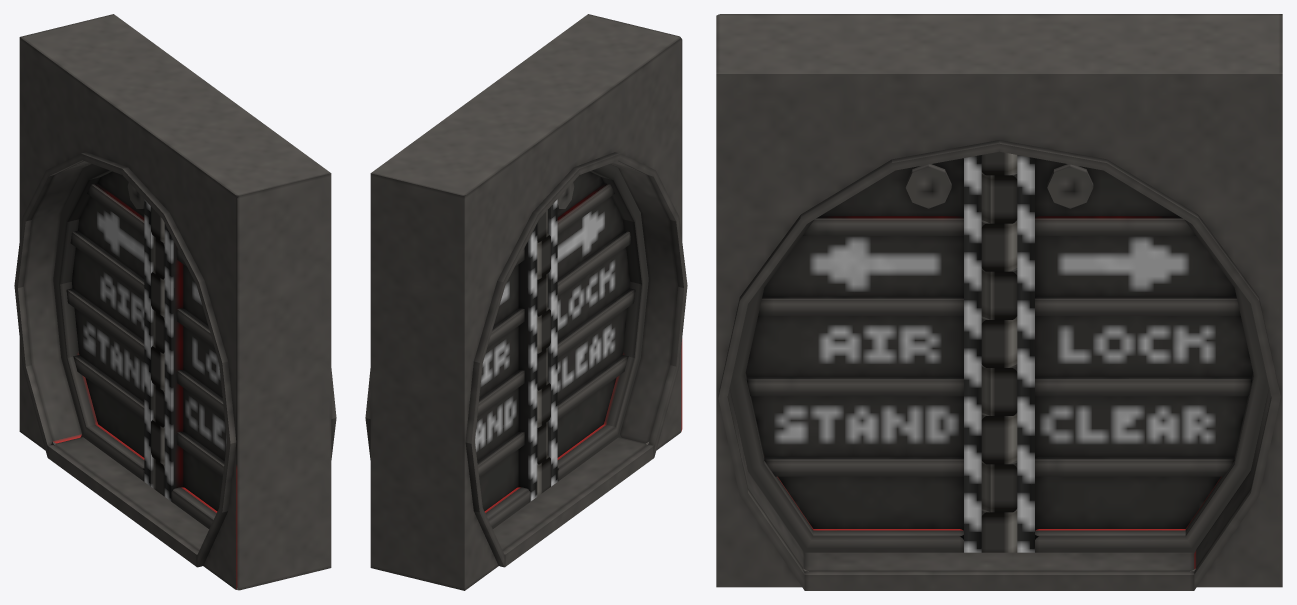
File: round_airlock_door.obj
The picture shows the model from 3 angles, left to right: view 1: azimuth 30°, elevation 25°; view 2: azimuth 150°, elevation 25°; view 3: azimuth 270°, elevation 25°; orthographic projection. The views are drawn at different scales.
Parts seen in each view (by area): view 1: frame, doorRight, doorLeft; view 2: frame, doorLeft, doorRight; view 3: frame, doorLeft, doorRight.
Boxes of the visible parts, left/top/right/bottom form: frame: left=14, top=14, right=336, bottom=590; doorRight: left=53, top=164, right=164, bottom=488; doorLeft: left=154, top=223, right=226, bottom=528; frame: left=365, top=14, right=687, bottom=590; doorLeft: left=537, top=164, right=648, bottom=496; doorRight: left=475, top=210, right=547, bottom=528; frame: left=716, top=14, right=1282, bottom=590; doorLeft: left=729, top=151, right=1017, bottom=552; doorRight: left=981, top=155, right=1269, bottom=552.
Bounding box in the file's own units: 1.12 × 4 × 4.
